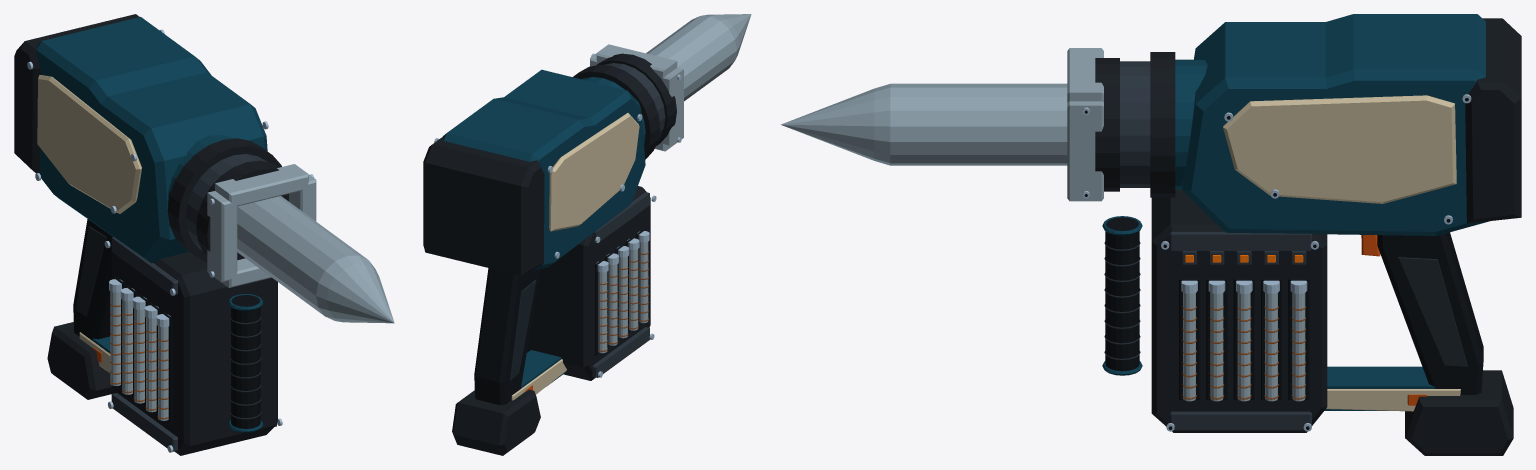
File: NailgunBlue_Evolved.obj
The picture shows the model from 3 angles, left to right: view 1: azimuth 30°, elevation 25°; view 2: azimuth 150°, elevation 25°; view 3: azimuth 270°, elevation 25°; orthographic projection. The views are drawn at different scales.
Parts seen in each view (by area): view 1: FrameBlack, PetrolBlue, MachinedSteel, Ivory, Rubber, FastenerSteel, Graphite, GripRings, Steel, Copper; view 2: FrameBlack, PetrolBlue, Ivory, MachinedSteel, Rubber, FastenerSteel, Graphite, GripRings, Steel, Copper; view 3: PetrolBlue, FrameBlack, MachinedSteel, Ivory, Rubber, Graphite, FastenerSteel, GripRings, Steel, Copper.
Boxes of the visible parts, x1,y1,x2,y2 form: FrameBlack: (14,14,288,455); PetrolBlue: (35,17,267,432); MachinedSteel: (207,164,394,323); Ivory: (37,75,141,372); Rubber: (73,219,260,428); FastenerSteel: (110,291,168,420); Graphite: (111,154,276,451); GripRings: (76,226,261,419); Steel: (27,29,313,452); Copper: (110,303,168,419); FrameBlack: (423,53,676,455); PetrolBlue: (442,69,645,388); Ivory: (511,113,639,400); MachinedSteel: (590,14,751,151); Rubber: (474,77,677,405); FastenerSteel: (598,242,648,353); Graphite: (592,63,665,377); GripRings: (509,279,536,380); Steel: (434,53,681,377); Copper: (598,251,648,351); PetrolBlue: (1102,14,1489,410); FrameBlack: (1095,18,1521,455); MachinedSteel: (781,48,1103,201); Ivory: (1223,95,1460,411); Rubber: (1084,98,1483,429); Graphite: (1120,61,1311,430); FastenerSteel: (1183,292,1305,401); GripRings: (1104,241,1467,366); Steel: (1082,94,1471,431); Copper: (1182,306,1305,399).
Size of the model in its own units: 0.301 by 0.742 by 1.25.
